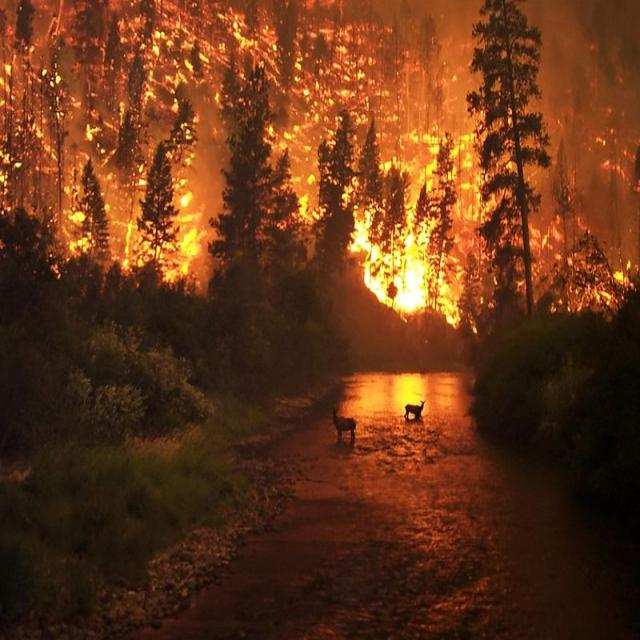Fire: (358, 231, 470, 331), (178, 198, 203, 292)
